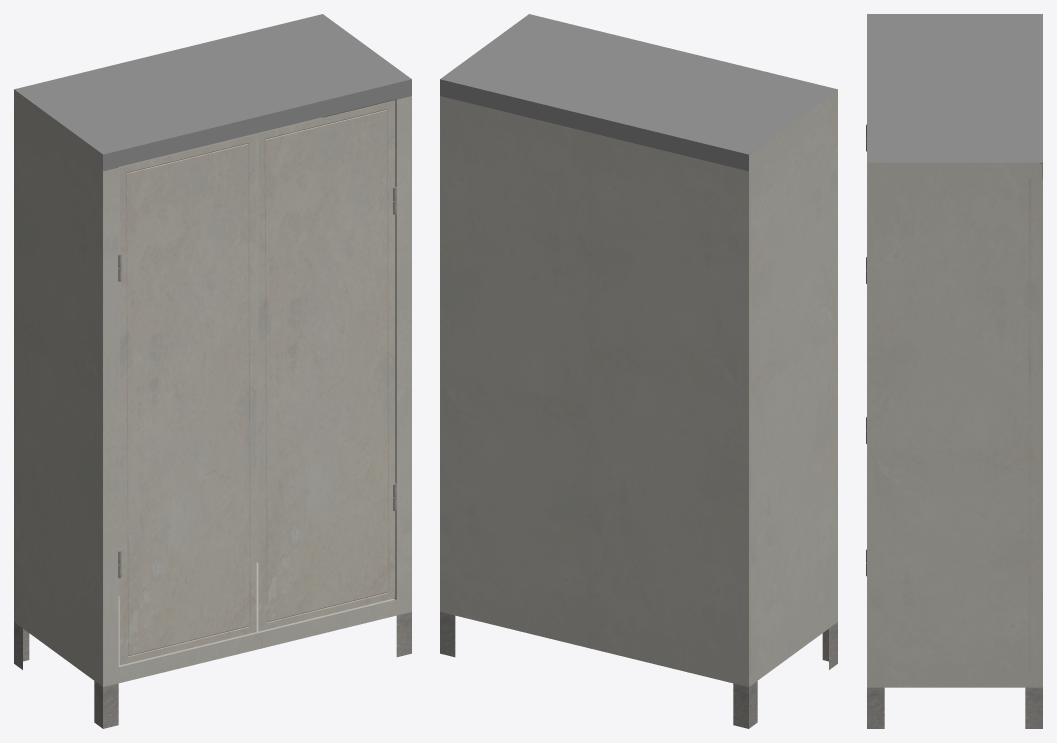
The model's file is zhiwu05.FBX.
3 views of the same model, side by side, from view 1: azimuth 30°, elevation 25°; view 2: azimuth 150°, elevation 25°; view 3: azimuth 270°, elevation 25° (orthographic).
Visible parts, largest first — view 1: YF_Model_zhiwu05; view 2: YF_Model_zhiwu05; view 3: YF_Model_zhiwu05.
Part boxes in pixels (left/top/right/bottom): YF_Model_zhiwu05: left=14, top=14, right=411, bottom=728; YF_Model_zhiwu05: left=440, top=14, right=837, bottom=728; YF_Model_zhiwu05: left=866, top=14, right=1042, bottom=728.
Bounding box in the file's own units: 100 × 178 × 50.32.
1 material, 1 textured.
